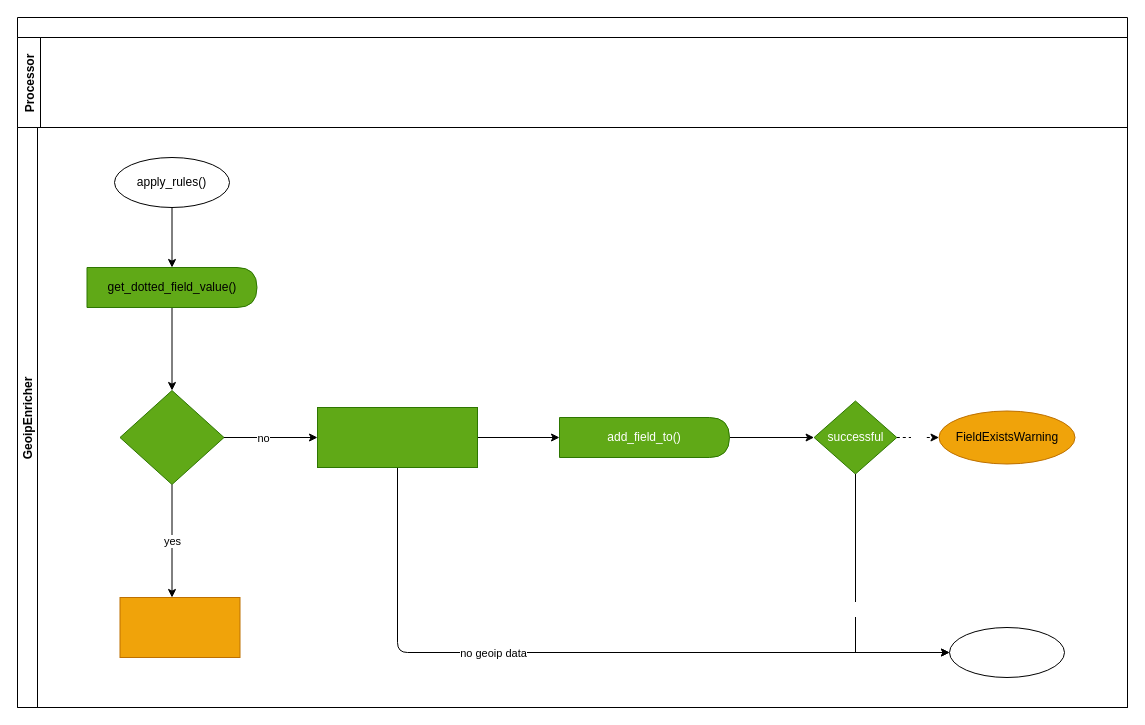
Image size: 1145x725. Some labels were removed from this diagram. Here are the shapes that lost their labels. From the top down, the centre of each, then its label:
the point at 171,437: ip_string None?
the point at 397,437: _try_getting_geoip_data()
the point at 179,627: ProcessingWarning
the point at 1006,652: return None
